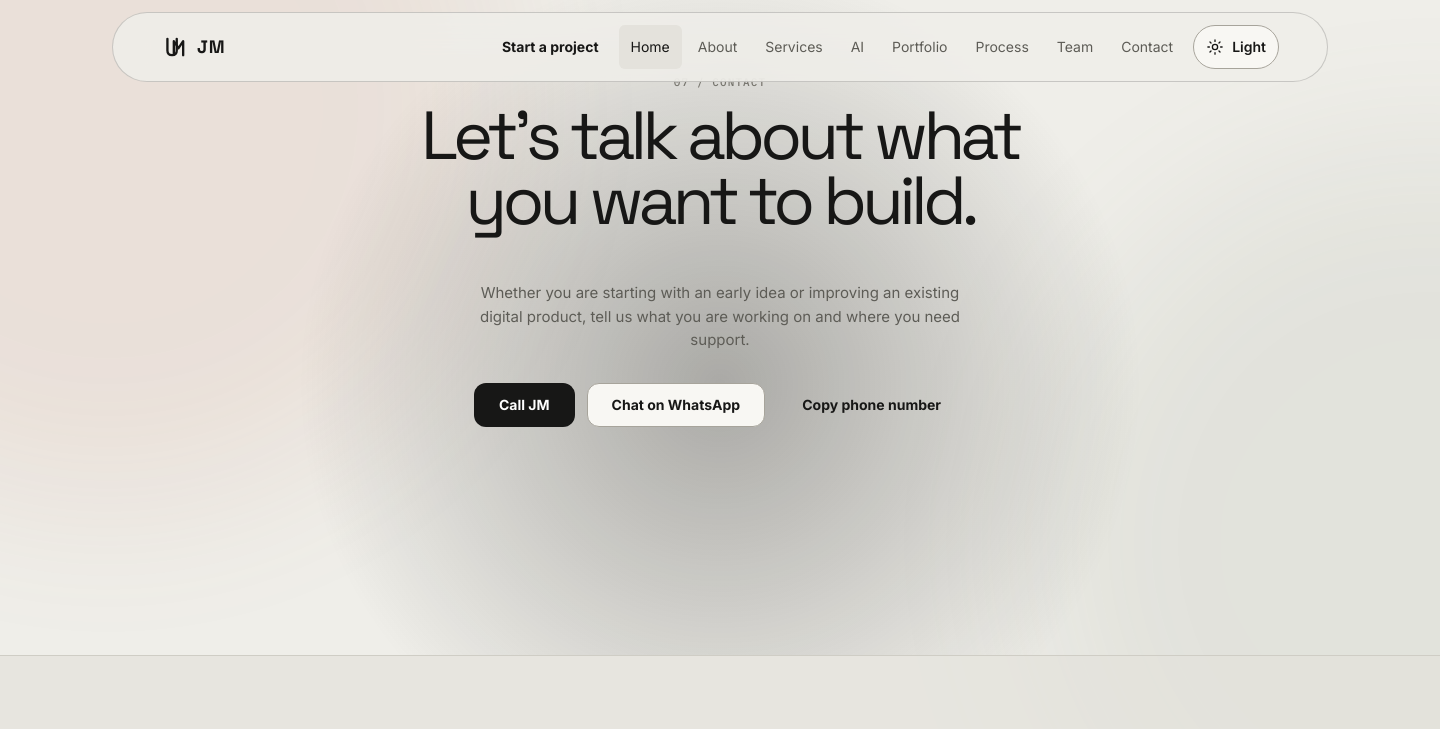
Test case: JM Technologies application › copies the phone number with an accessible confirmation
(page scrolled)
Click the button "Copy phone number" at (872, 405), box [777,383,966,427]
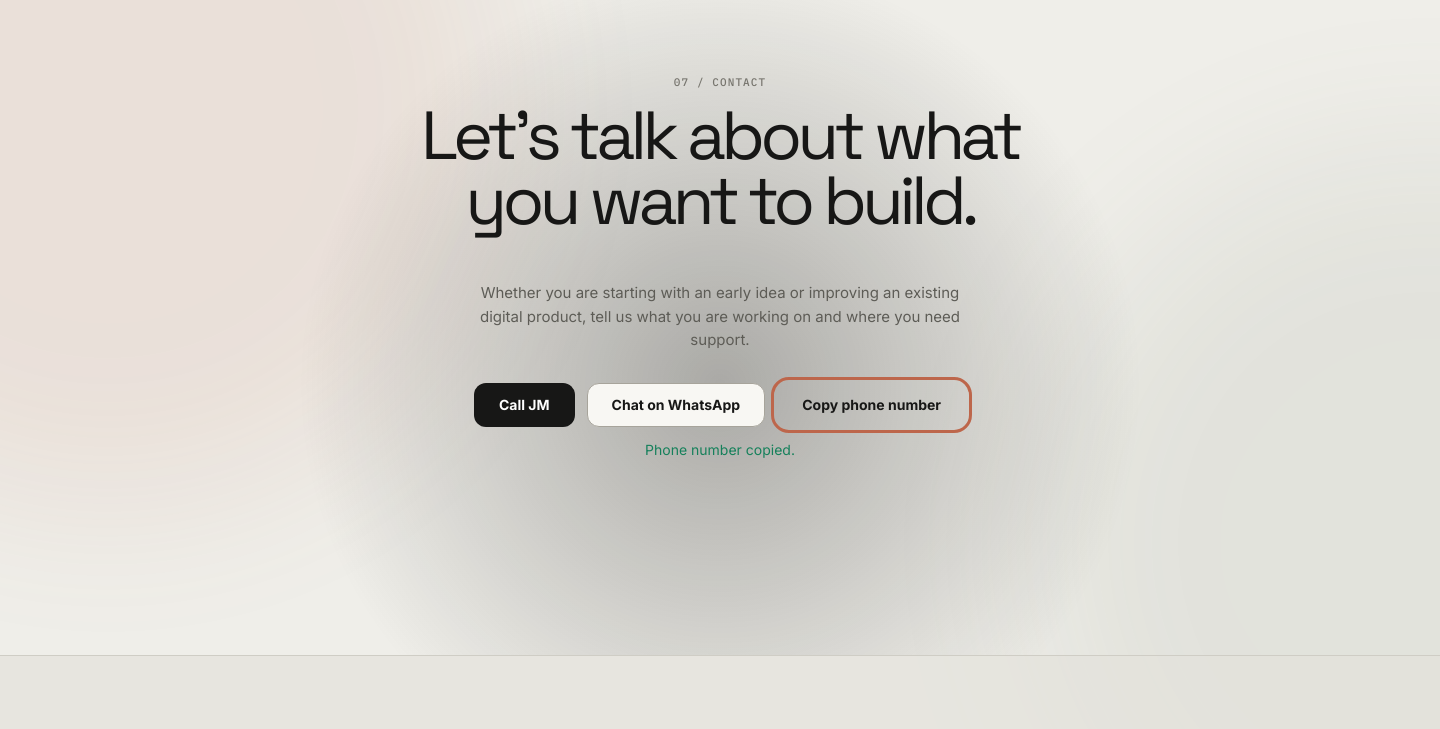
Expected: the text "Phone number copied." is shown, [645,441,795,458]
